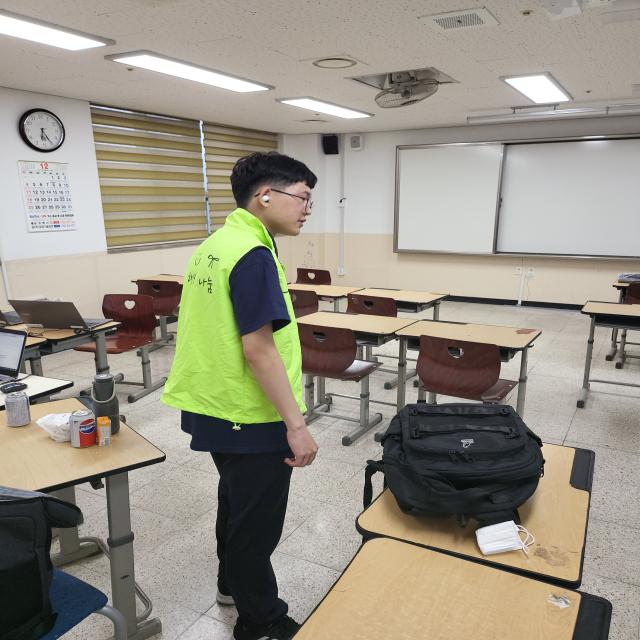weston_spy: (144, 197, 332, 442)
